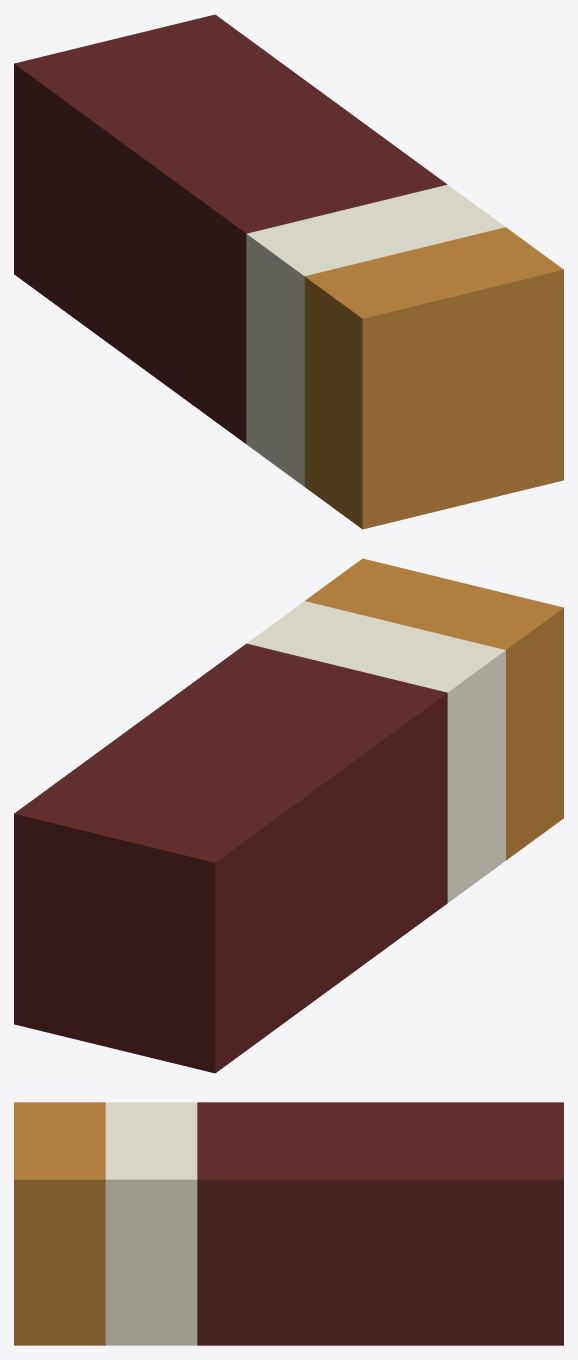
The model's file is humanoid-64-arm_lgt_med_3_fore_color.obj.
3 views of the same model, one above another, from view 1: azimuth 30°, elevation 25°; view 2: azimuth 150°, elevation 25°; view 3: azimuth 270°, elevation 25° (orthographic). The views are drawn at different scales.
Parts seen in each view (by area): view 1: arm_lgt_med_3_fore_color; view 2: arm_lgt_med_3_fore_color; view 3: arm_lgt_med_3_fore_color.
Part boxes in pixels (x1,y1,x2,y2): arm_lgt_med_3_fore_color: (14,14,563,529); arm_lgt_med_3_fore_color: (14,558,563,1073); arm_lgt_med_3_fore_color: (14,1102,563,1345).
Size of the model in its own units: 0.2 by 0.2 by 0.6.
Materials: 1 (1 with a texture image).
